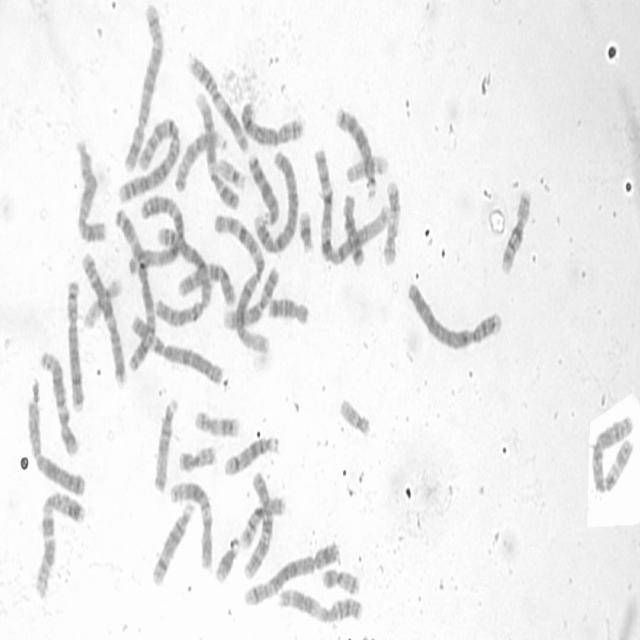A1: (312, 147, 390, 266), (212, 213, 271, 354)
A2: (154, 225, 212, 329), (117, 117, 181, 205)
A3: (114, 208, 158, 376), (128, 194, 185, 276)
B4: (406, 281, 504, 354), (253, 148, 300, 255)
B5: (123, 2, 166, 174), (243, 540, 342, 609)
C10: (242, 470, 274, 582), (177, 260, 236, 308)
C11: (185, 49, 250, 153), (277, 589, 364, 625)
C12: (40, 349, 81, 457), (169, 479, 214, 576)
C6: (129, 313, 224, 388), (589, 413, 635, 494)
C7: (80, 249, 128, 389), (34, 489, 86, 599)
C8: (239, 100, 306, 148), (66, 277, 85, 417)
C9: (194, 90, 240, 212), (221, 266, 280, 332)
D13: (336, 107, 378, 200), (247, 153, 279, 226)
D14: (150, 502, 195, 588), (224, 433, 279, 478)
D15: (173, 129, 228, 194), (153, 397, 179, 496)
E16: (499, 186, 534, 275), (239, 494, 287, 552)
E17: (382, 180, 401, 265), (193, 410, 240, 438)
E18: (341, 193, 366, 267), (268, 296, 310, 326)
F19: (82, 276, 124, 331), (346, 154, 388, 187)
F20: (178, 443, 215, 475), (320, 568, 361, 596)
G21: (214, 534, 240, 584), (299, 209, 314, 255)
G22: (338, 396, 372, 438), (216, 156, 246, 191)
X: (28, 400, 87, 497), (75, 140, 108, 244)
